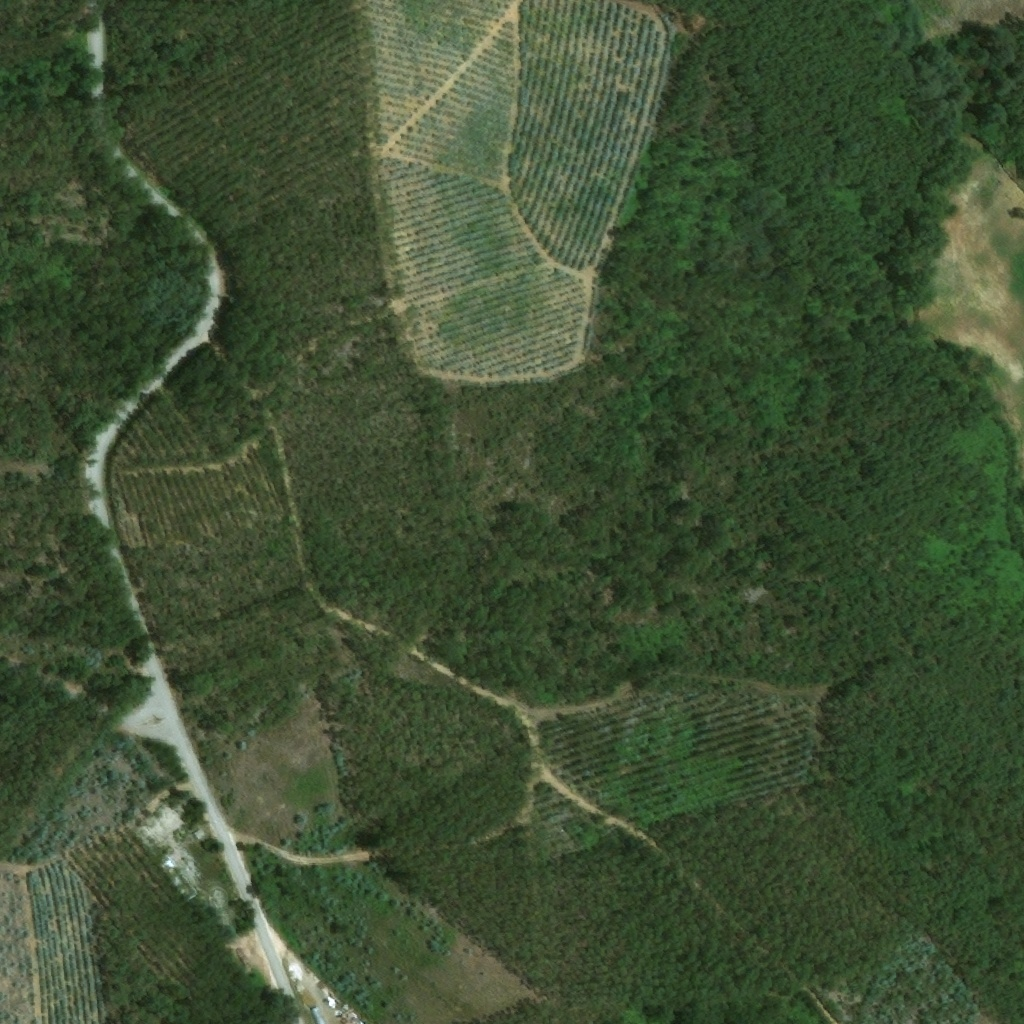0 no-damage: (156, 857, 176, 876), (308, 1008, 323, 1023), (192, 831, 204, 841)
